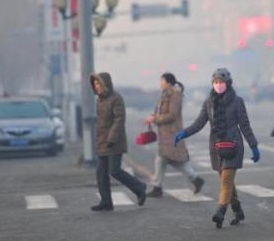person: (173, 67, 265, 228), (79, 68, 148, 214), (135, 69, 206, 202)
